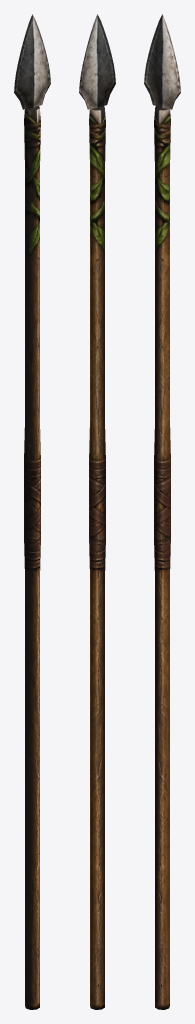
Rendered from mm7_m218_spear.glb.
3 views of the same model, side by side, from view 1: azimuth 30°, elevation 25°; view 2: azimuth 210°, elevation 25°; view 3: azimuth 330°, elevation 25° (orthographic).
Parts seen in each view (by area): view 1: Spear; view 2: Spear; view 3: Spear.
Part boxes in pixels (x1,y1,x2,y2): Spear: [14, 14, 50, 1009]; Spear: [79, 14, 115, 1009]; Spear: [144, 14, 180, 1009].
Bounding box in the file's own units: 0.0779 × 2 × 0.032.
1 material, 1 textured.
